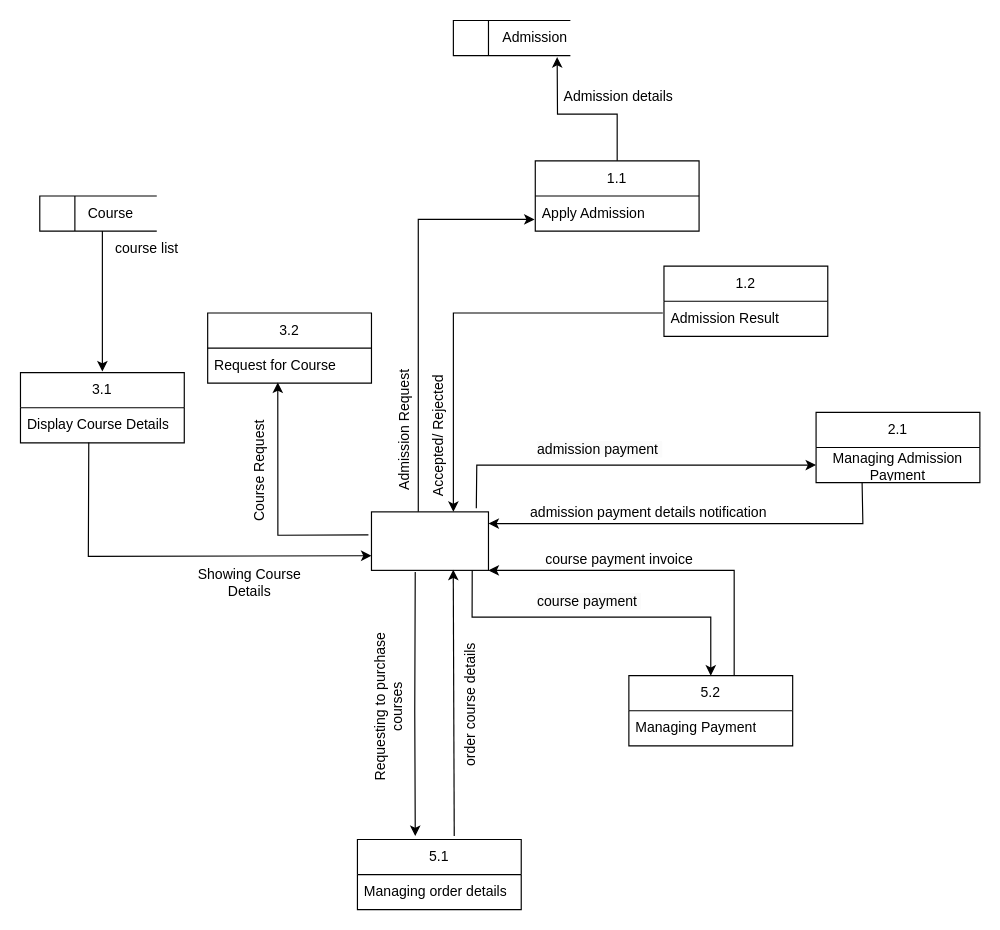
This 1000x930 diagram has some shape labels left out. The shapes that lost their labels are listed below. From the top down, each one's box as (x1, y1, x2, y2) in pixels, then its label:
(452, 19, 570, 56): D1
(39, 195, 157, 231): D3
(370, 511, 488, 570): Student
